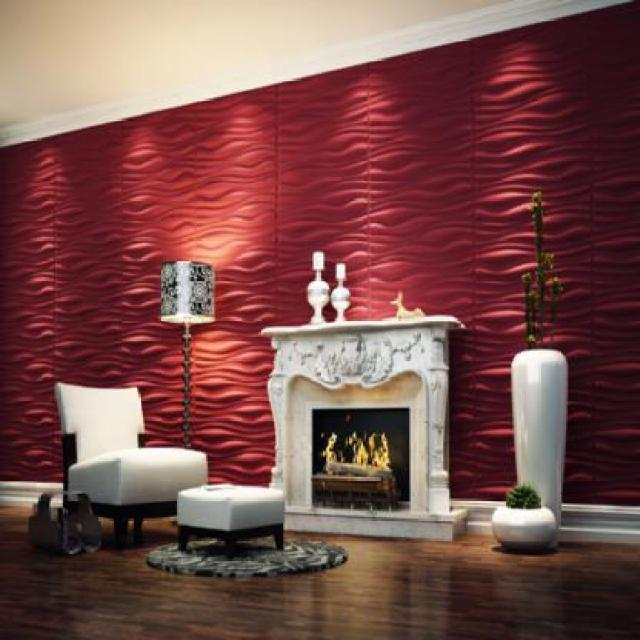Fire: (318, 428, 396, 482)
